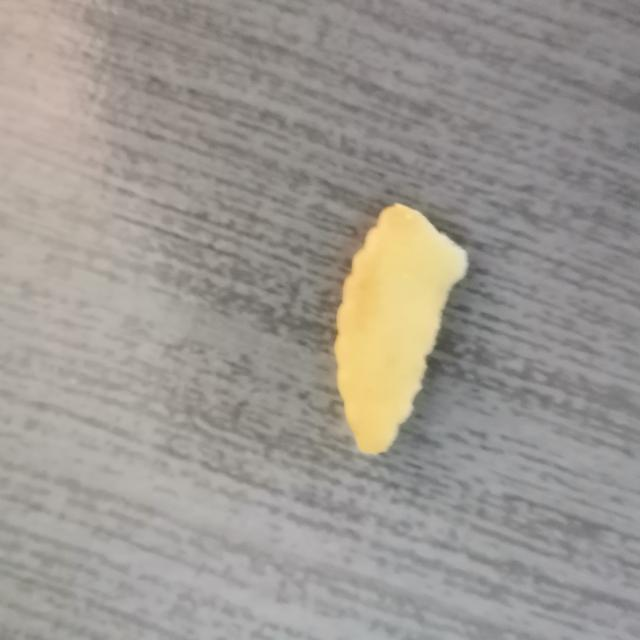Broken: (332, 201, 468, 455)
